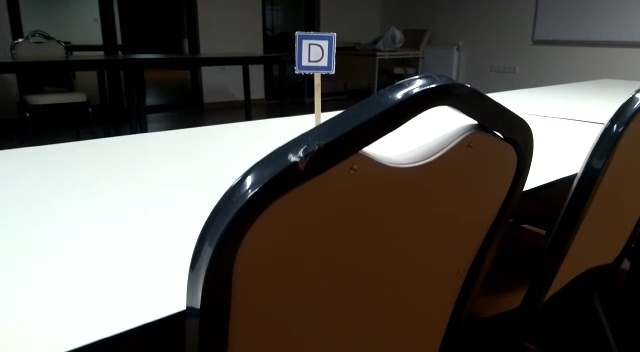durak: (296, 33, 334, 71)
